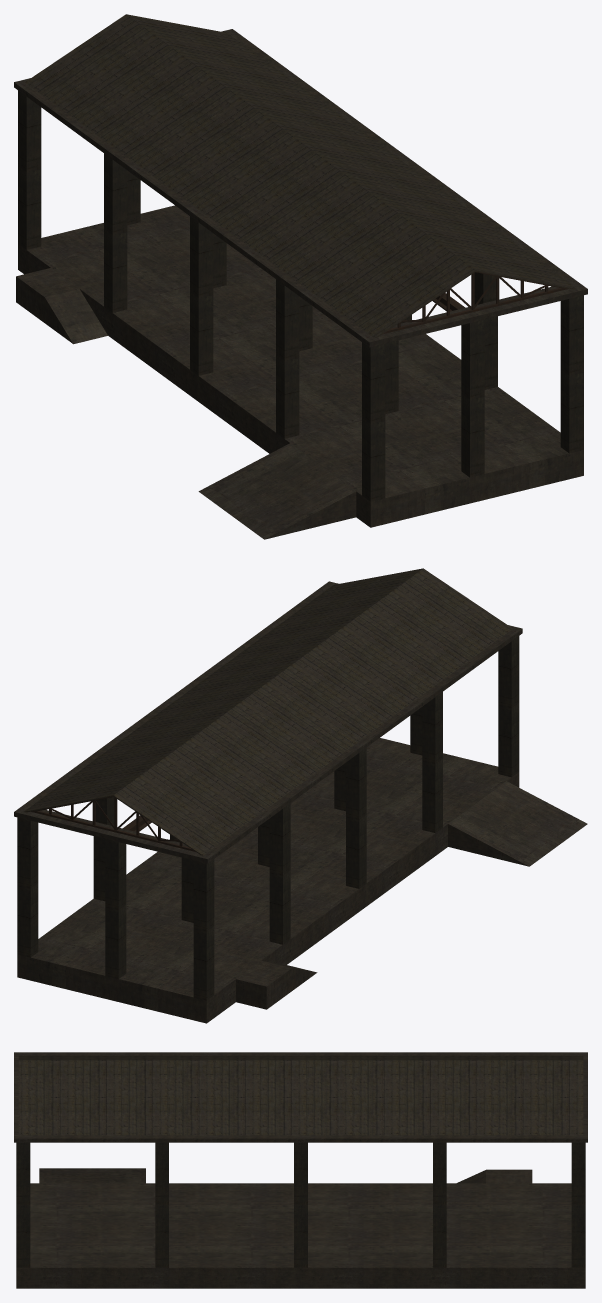
Rendered from warehouse_mx_4_1.dae.
The picture shows the model from 3 angles, top to bottom: view 1: azimuth 30°, elevation 25°; view 2: azimuth 150°, elevation 25°; view 3: azimuth 270°, elevation 25°; orthographic projection. The views are drawn at different scales.
Parts seen in each view (by area): view 1: warehouse_mx_4_1; view 2: warehouse_mx_4_1; view 3: warehouse_mx_4_1.
Part boxes in pixels (left/top/right/bottom): warehouse_mx_4_1: left=14, top=14, right=587, bottom=539; warehouse_mx_4_1: left=14, top=568, right=587, bottom=1023; warehouse_mx_4_1: left=14, top=1052, right=587, bottom=1288.
Bounding box in the file's own units: 12.4 × 24.8 × 8.87.
Materials: 4 (4 with a texture image).
